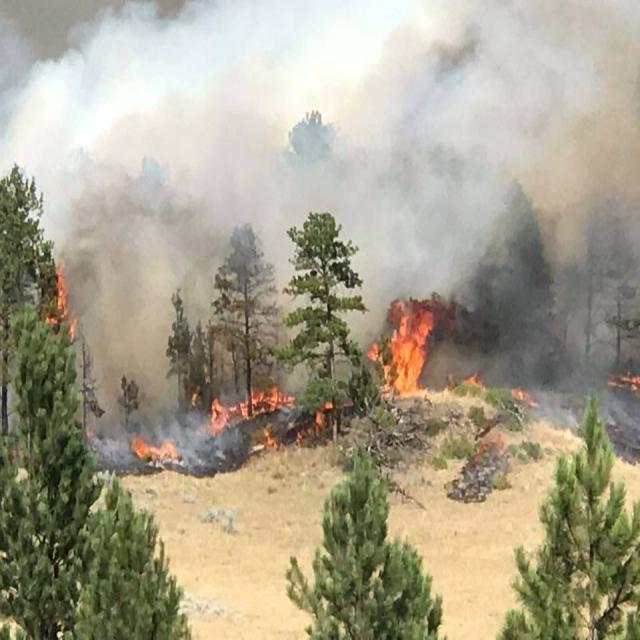Fire: (198, 376, 344, 464), (367, 297, 437, 402)
Smoke: (0, 0, 640, 280)
